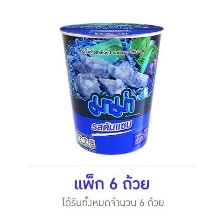paper_cup: (54, 19, 168, 159)
